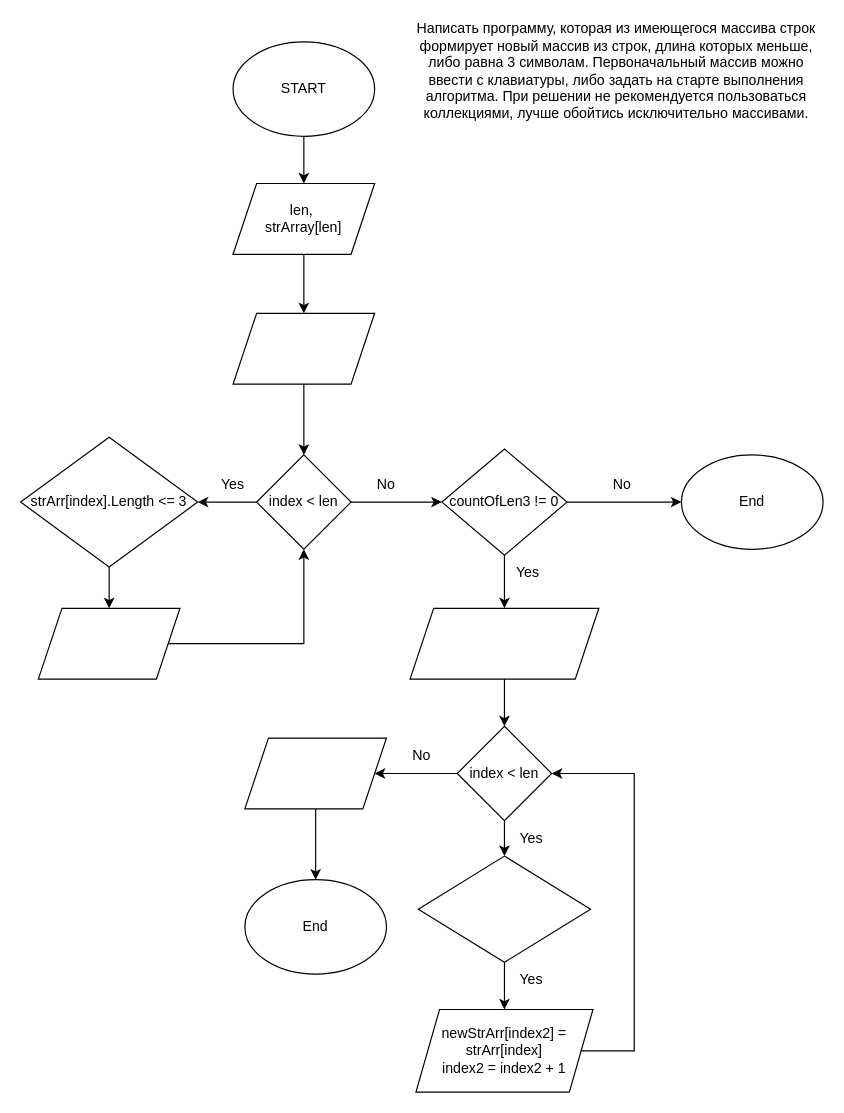
This 844x1113 diagram has some shape labels left out. The centre of each missing label's shape, as x and y in pixels:
"countOfLen3 = 0 index = 0" goes at pixel 303 348.
"countOfLen3 = countOfLen3 + 1" goes at pixel 108 643.
"newStrArr" goes at pixel 315 773.
"newStrArr[countOfLen3] index, index2" goes at pixel 504 643.
"strArr[index].Length <=3" goes at pixel 504 908.
